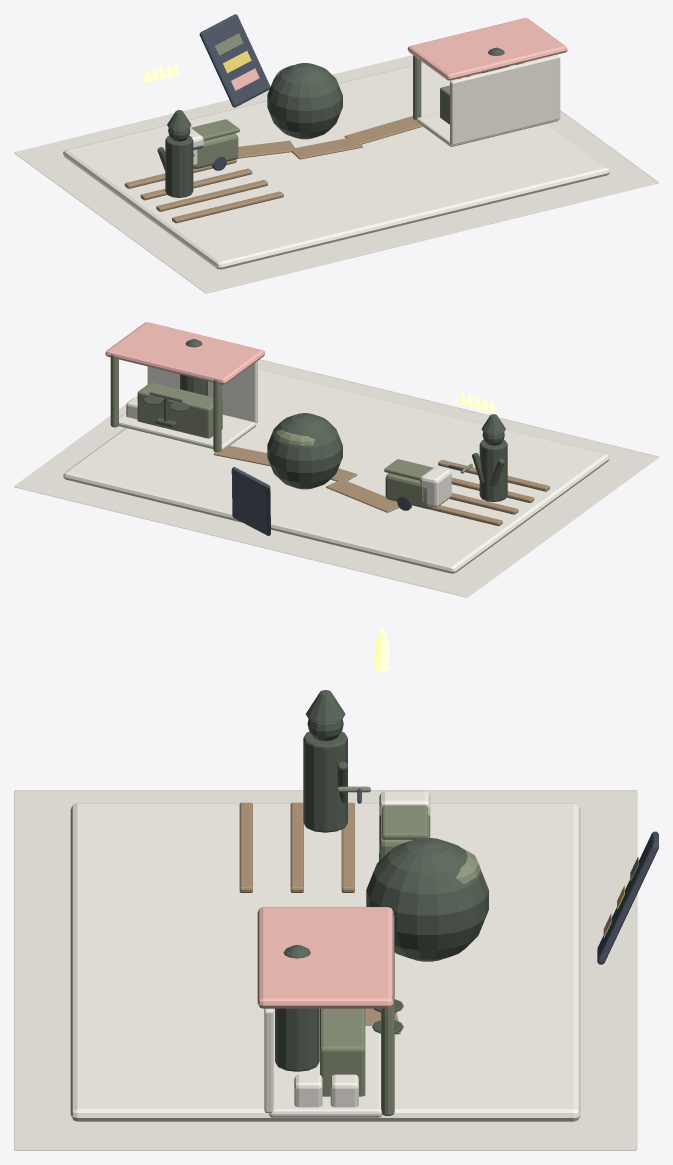
The model's file is agrieasy-loop.glb.
3 views of the same model, one above another, from view 1: azimuth 30°, elevation 25°; view 2: azimuth 150°, elevation 25°; view 3: azimuth 270°, elevation 25° (orthographic). The views are drawn at different scales.
Parts seen in each view (by area): view 1: Base, Shadow, SB, SR, MapSphere, Phone, FarmerBody, TruckBody, R_2, SF, SoilRow_1, R_1 (+6 smaller); view 2: Base, Shadow, SR, MapSphere, Counter, SB, Phone, SF, FarmerBody, TruckBody, TruckCab, R_0 (+10 smaller); view 3: Base, Shadow, SR, MapSphere, FarmerBody, SF, Counter, BuyerBody, Phone, TruckTop, P2, SoilRow_0 (+7 smaller).
Part boxes in pixels (bbox=[...]): Base: bbox=[63, 63, 609, 269]; Shadow: bbox=[14, 55, 658, 293]; SB: bbox=[450, 55, 560, 145]; SR: bbox=[407, 18, 567, 80]; MapSphere: bbox=[267, 63, 342, 139]; Phone: bbox=[199, 14, 270, 107]; FarmerBody: bbox=[165, 135, 193, 197]; TruckBody: bbox=[193, 133, 238, 168]; R_2: bbox=[344, 116, 422, 144]; SF: bbox=[416, 112, 558, 146]; SoilRow_1: bbox=[156, 180, 267, 211]; R_1: bbox=[291, 138, 362, 159]; Base: bbox=[63, 369, 609, 573]; Shadow: bbox=[14, 359, 658, 597]; SR: bbox=[105, 322, 265, 384]; MapSphere: bbox=[267, 413, 342, 489]; Counter: bbox=[137, 382, 222, 438]; SB: bbox=[147, 361, 257, 423]; Phone: bbox=[231, 467, 270, 535]; SF: bbox=[118, 412, 256, 449]; FarmerBody: bbox=[479, 439, 507, 501]; TruckBody: bbox=[385, 473, 432, 508]; TruckCab: bbox=[420, 467, 451, 507]; R_0: bbox=[326, 480, 399, 512]; Base: bbox=[70, 803, 580, 1121]; Shadow: bbox=[14, 790, 637, 1150]; SR: bbox=[257, 907, 393, 1008]; MapSphere: bbox=[366, 838, 488, 961]; FarmerBody: bbox=[303, 731, 347, 832]; SF: bbox=[269, 1026, 382, 1117]; Counter: bbox=[320, 1008, 365, 1096]; BuyerBody: bbox=[275, 1008, 319, 1071]; Phone: bbox=[597, 831, 658, 964]; TruckTop: bbox=[382, 805, 427, 839]; P2: bbox=[381, 995, 394, 1115]; SoilRow_0: bbox=[239, 802, 252, 892].
Bounding box in the file's own units: 7.5 × 2.04 × 5.69.
